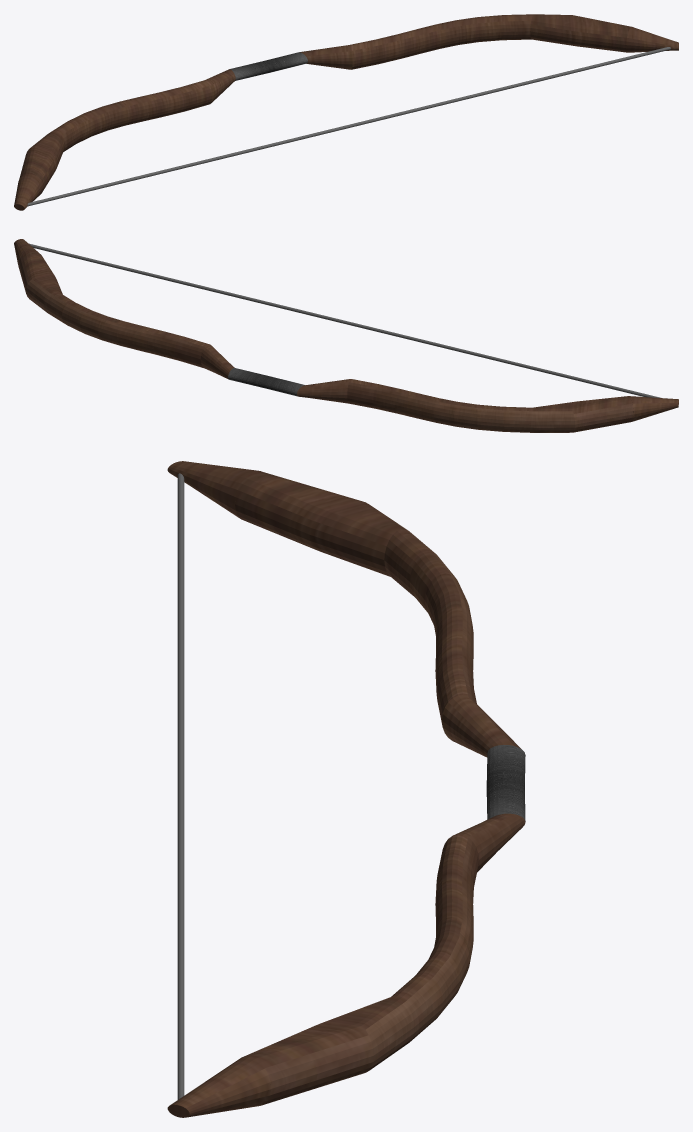
Rendered from bow.gltf.
The picture shows the model from 3 angles, top to bottom: view 1: azimuth 30°, elevation 25°; view 2: azimuth 150°, elevation 25°; view 3: azimuth 270°, elevation 25°; orthographic projection. The views are drawn at different scales.
Parts seen in each view (by area): view 1: Bow; view 2: Bow; view 3: Bow.
Part boxes in pixels (x1,y1,x2,y2): Bow: [14, 14, 678, 210]; Bow: [14, 239, 678, 432]; Bow: [167, 461, 525, 1117].
Size of the model in its own units: 4.68 by 0.165 by 1.09.
Materials: 3 (2 with a texture image).
